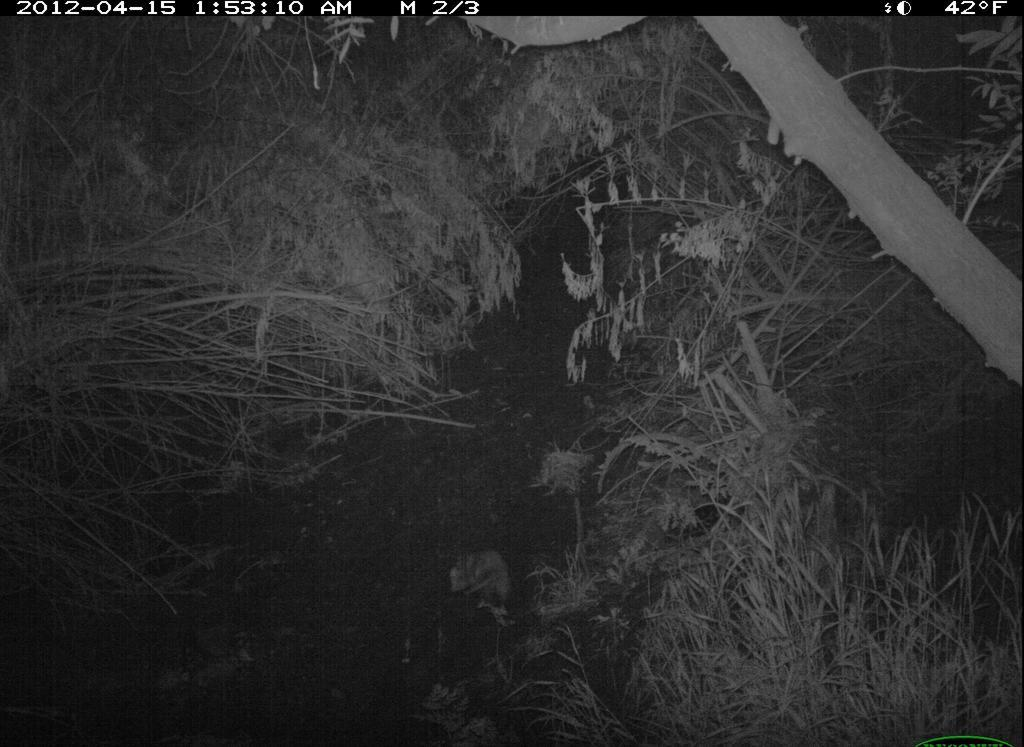opossum: (428, 525, 527, 625)
